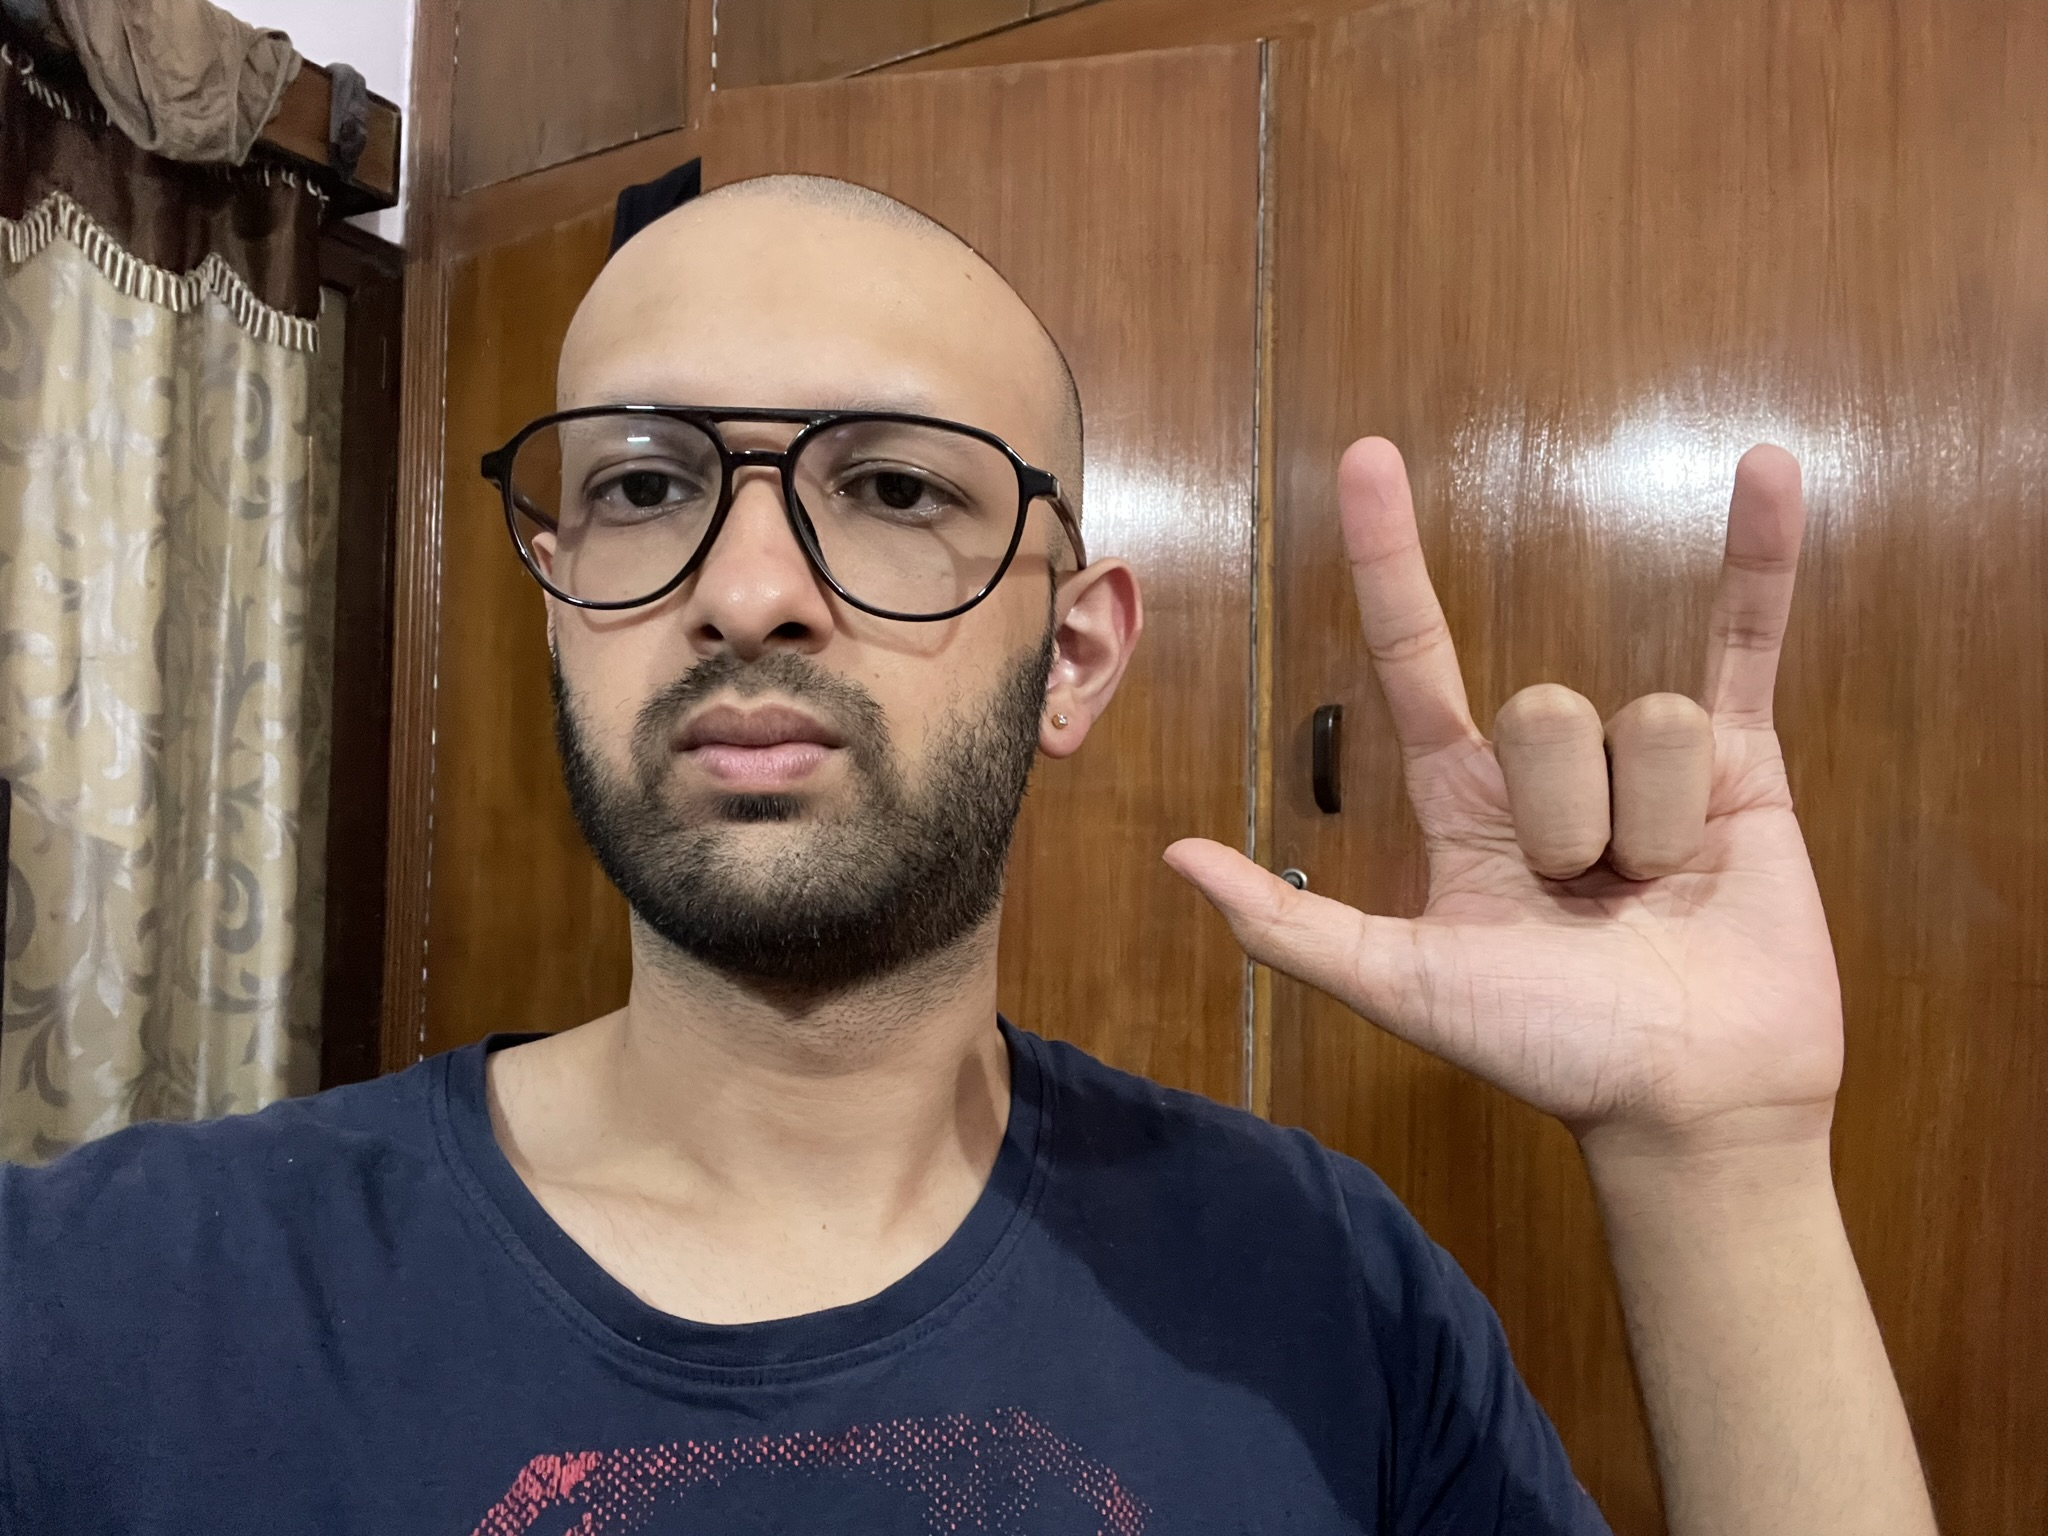I Love You: (1163, 431, 1848, 1131)
